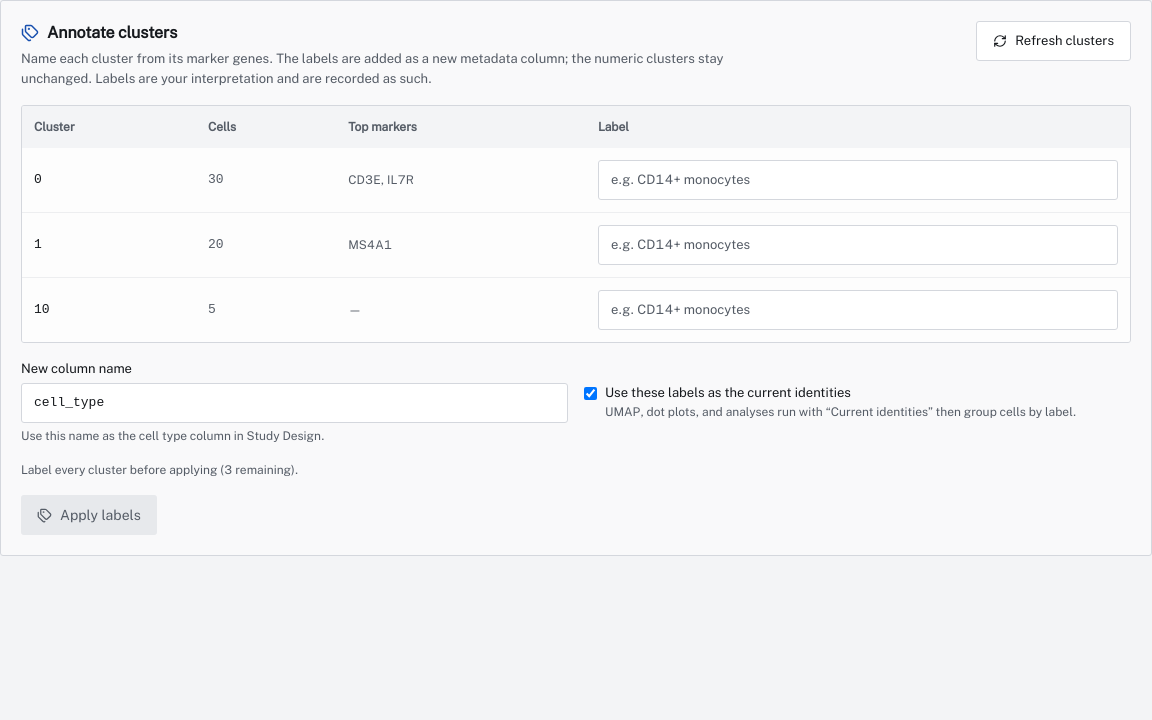
Test case: ClusterAnnotationPanel › requires every cluster to be labeled before applying
Type "T cells" into the field named "Label for cluster 0" at (858, 180), box [598,160,1118,200]
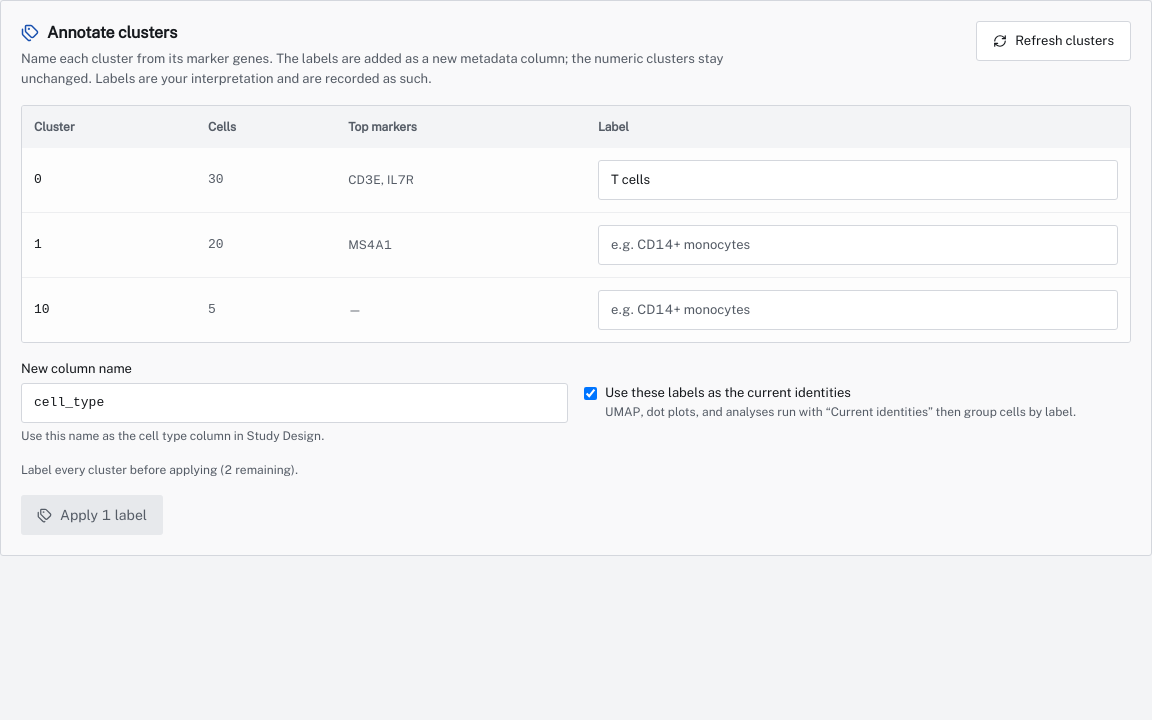
Expected: the button "Apply 1 label" is disabled, [21,495,163,535]
Now the text "Label every cluster before applying (2 remaining)." is shown, box [21,463,298,477]
